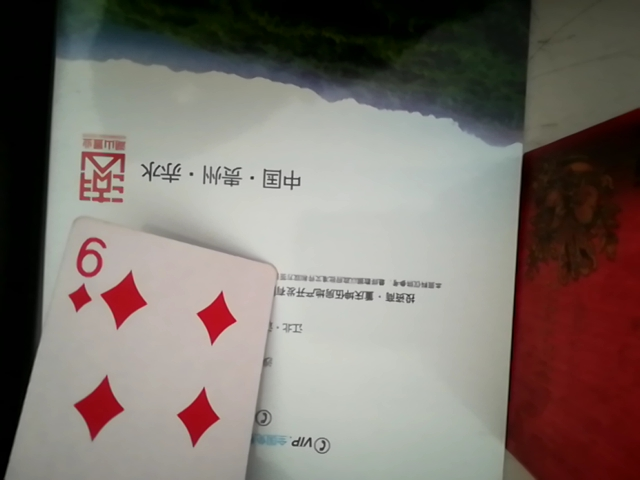fk 6: (16, 209, 291, 480)
